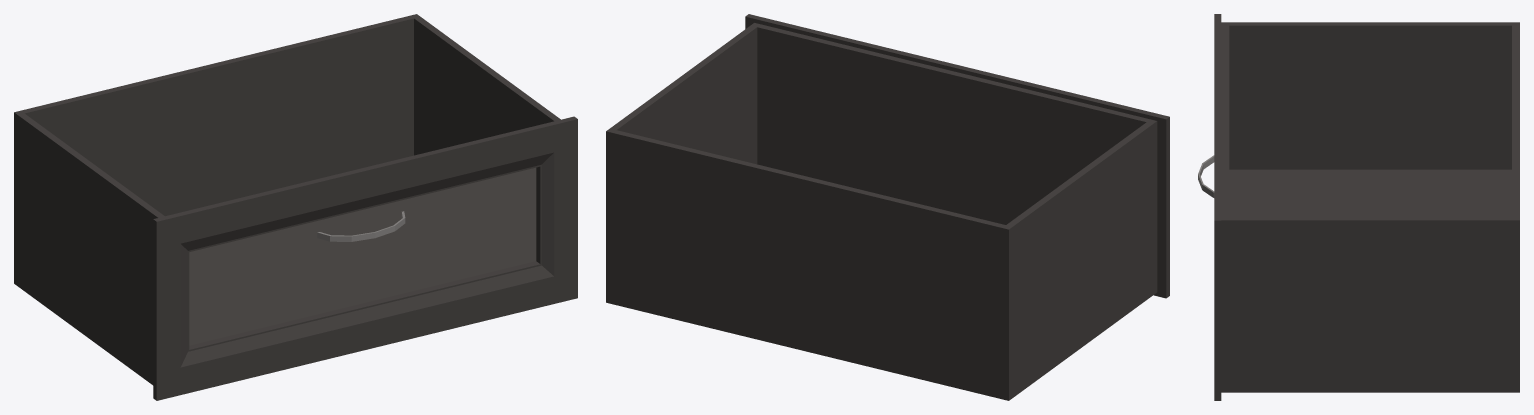
The model's file is Cupboard_14_02.fbx.
The picture shows the model from 3 angles, left to right: view 1: azimuth 30°, elevation 25°; view 2: azimuth 150°, elevation 25°; view 3: azimuth 270°, elevation 25°; orthographic projection.
Visible parts, largest first — view 1: Cupboard_14_02; view 2: Cupboard_14_02; view 3: Cupboard_14_02.
Boxes of the visible parts, x1,y1,x2,y2 form: Cupboard_14_02: (14,14,577,400); Cupboard_14_02: (606,14,1169,400); Cupboard_14_02: (1198,14,1519,400).
Bounding box in the file's own units: 78.8 × 32.03 × 51.84.
